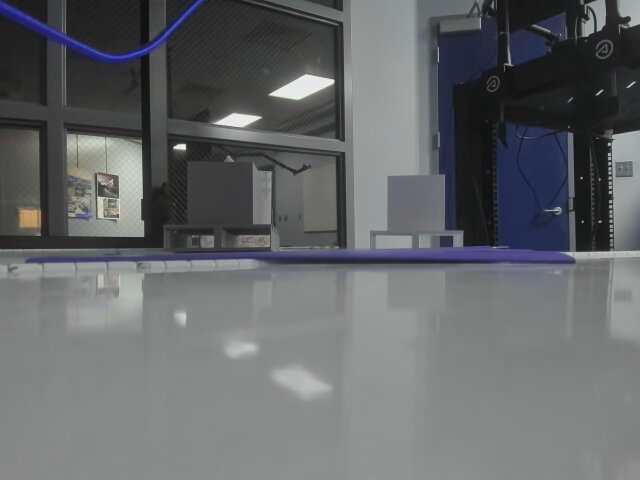grey pallet: (158, 142, 288, 261)
white pallet: (357, 163, 481, 262)
